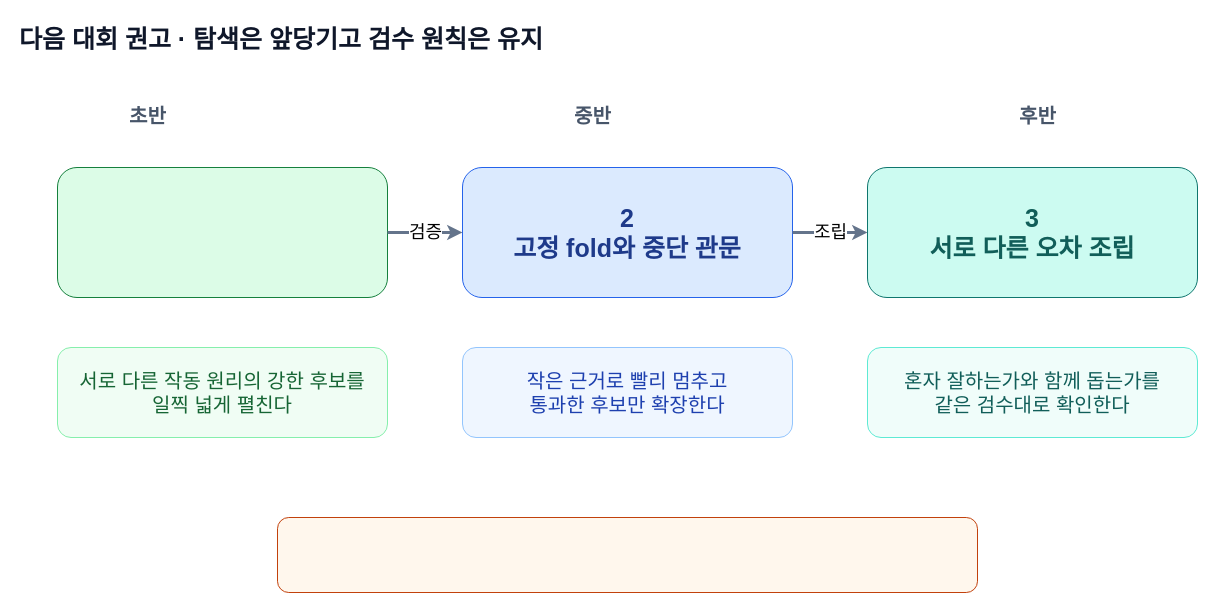
Image size: 1215x610. Some labels were removed from this diagram. Here are the shapes that lost their labels. From the top down, the centre of each, then its label:
point 222,232: 1 넓은 단일 모델 탐색
point 627,554: 더 많은 실험이 아니라 더 이른 탐색과 더 빠른 중단
